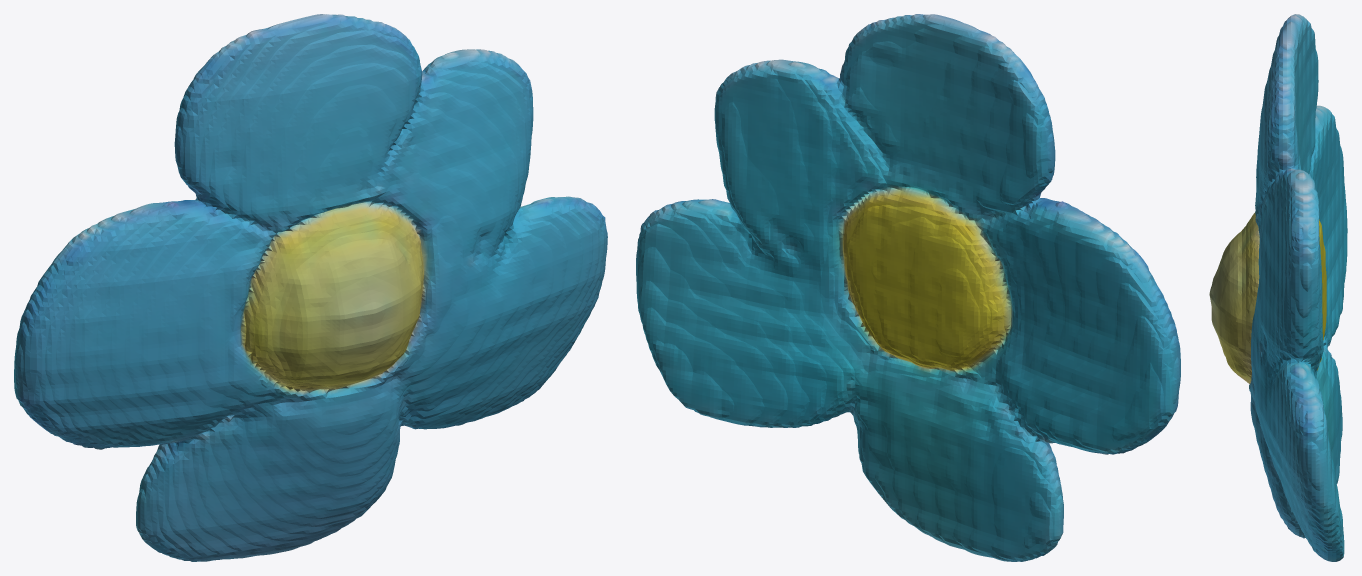
3 views of the same model, side by side, from view 1: azimuth 30°, elevation 25°; view 2: azimuth 150°, elevation 25°; view 3: azimuth 270°, elevation 25° (orthographic). The views are drawn at different scales.
Parts seen in each view (by area): view 1: world; view 2: world; view 3: world.
Part boxes in pixels (box(x1,y1,x2,y2)): world: box(14, 14, 607, 561); world: box(636, 14, 1180, 561); world: box(1209, 14, 1347, 561).
Size of the model in its own units: 1.03 by 0.9163 by 0.2301.
